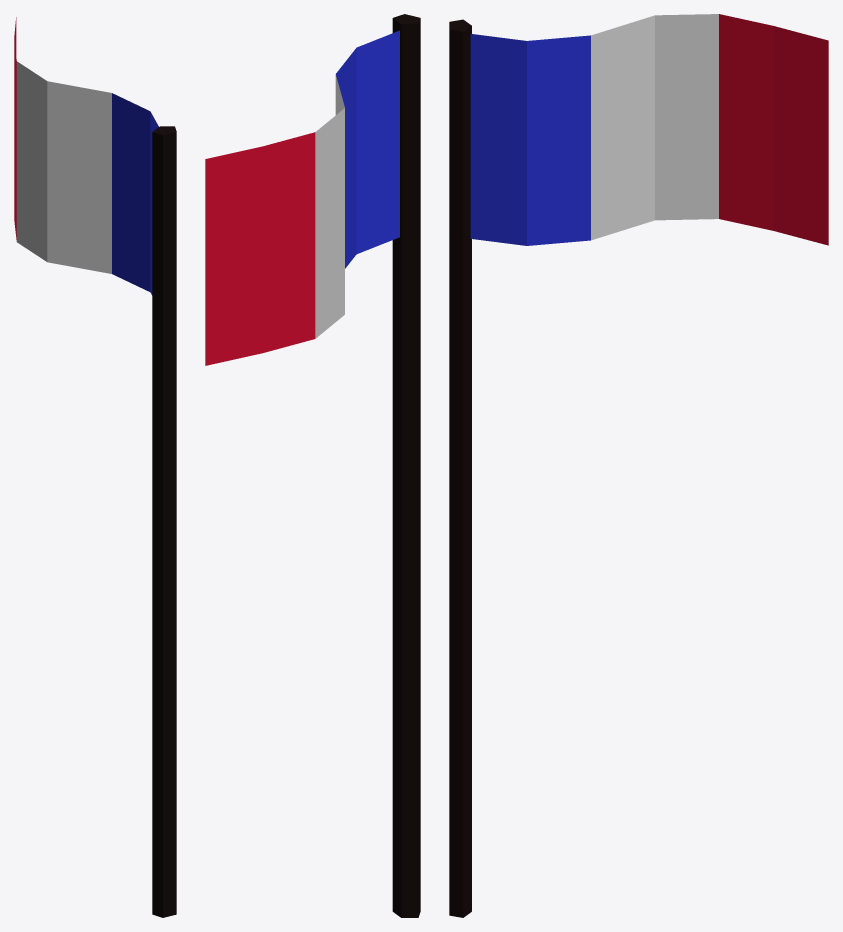
The model's file is flag.fbx.
3 views of the same model, side by side, from view 1: azimuth 30°, elevation 25°; view 2: azimuth 150°, elevation 25°; view 3: azimuth 270°, elevation 25° (orthographic). The views are drawn at different scales.
Parts seen in each view (by area): view 1: Cylinder; view 2: Cylinder; view 3: Cylinder.
Boxes of the visible parts, x1=… form: Cylinder: x1=14, y1=17, x2=176, y2=917; Cylinder: x1=205, y1=14, x2=420, y2=917; Cylinder: x1=449, y1=14, x2=828, y2=917.
Bounding box in the file's own units: 173 × 2646 × 1026.
